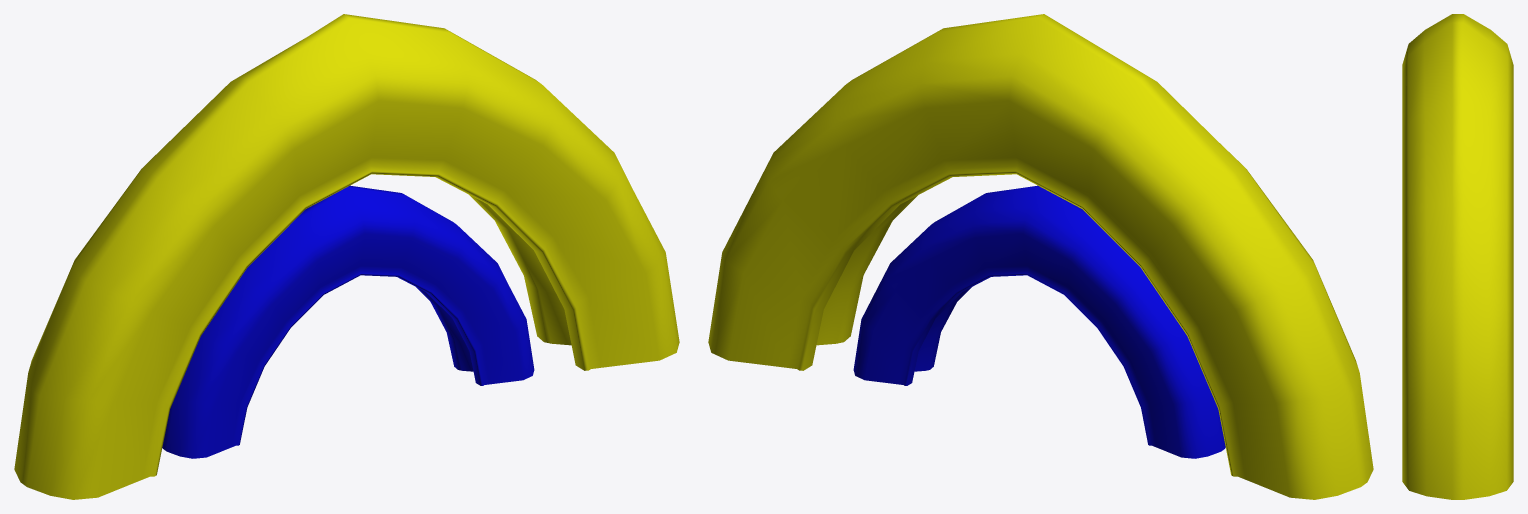
The model's file is SM_Railing003.fbx.
3 views of the same model, side by side, from view 1: azimuth 30°, elevation 25°; view 2: azimuth 150°, elevation 25°; view 3: azimuth 270°, elevation 25° (orthographic). The views are drawn at different scales.
Visible parts, largest first — view 1: polySurface2322; view 2: polySurface2322; view 3: polySurface2322.
Boxes of the visible parts, x1,y1,x2,y2 form: polySurface2322: (14, 14, 679, 499); polySurface2322: (708, 14, 1373, 499); polySurface2322: (1402, 14, 1513, 499).
Size of the model in its own units: 175 by 101 by 29.87.
